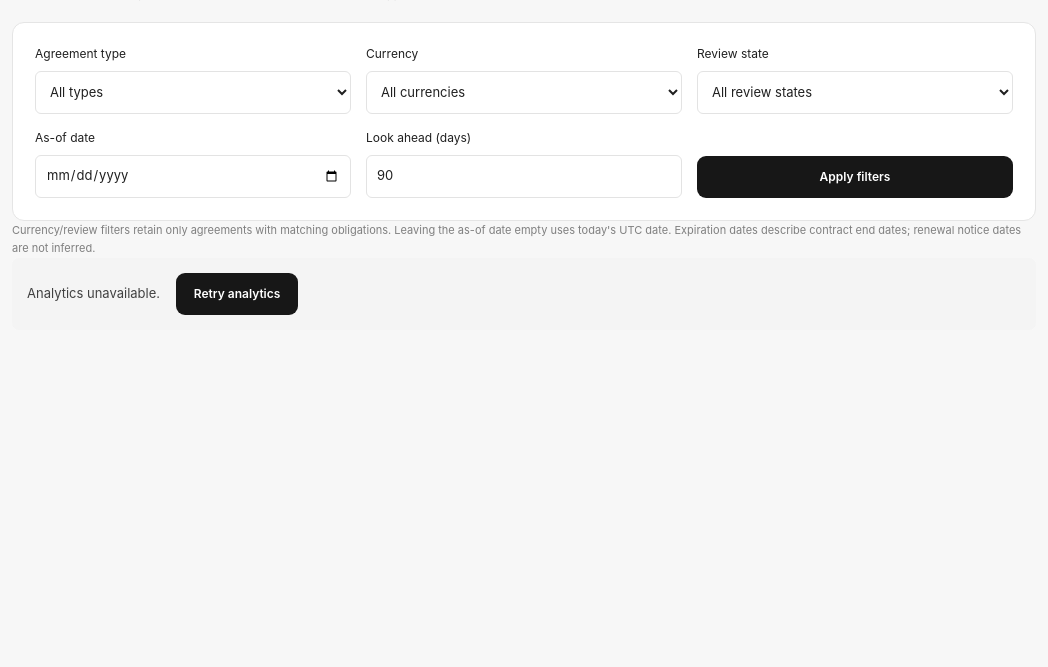
reports and retries a database failure
This screenshot has width=1048, height=667.
Expected: the message shows "Analytics unavailable.", [27,285,160,301]
Click the button "Retry analytics" at [237, 294], box [176,273,298,315]
(page scrolled)
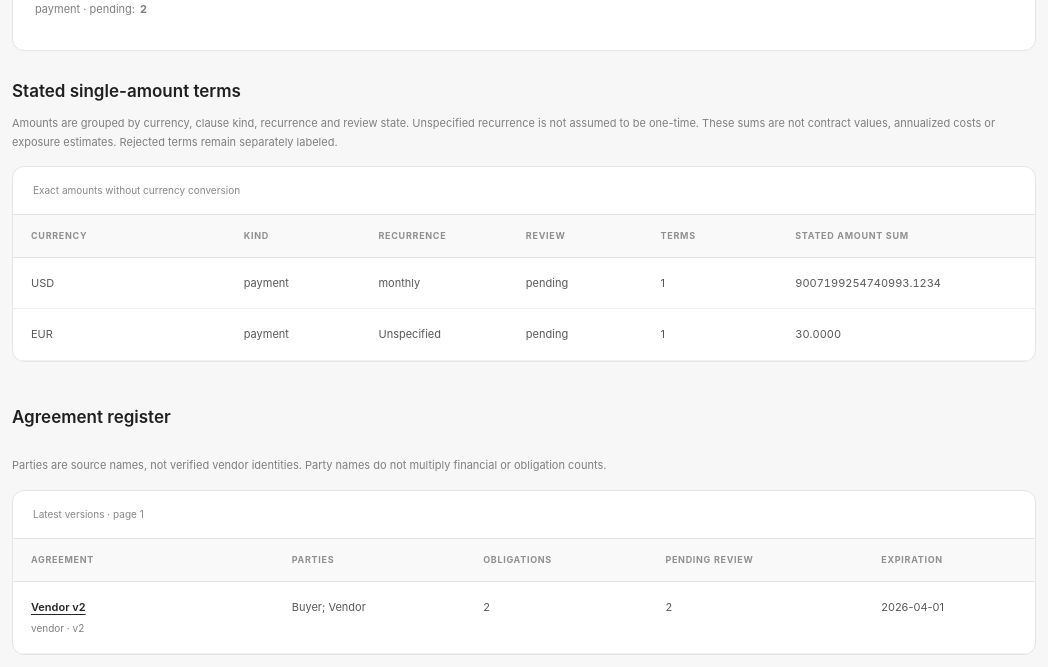
Now the text "9007199254740993.1234" is shown, box [777,257,1035,309]
